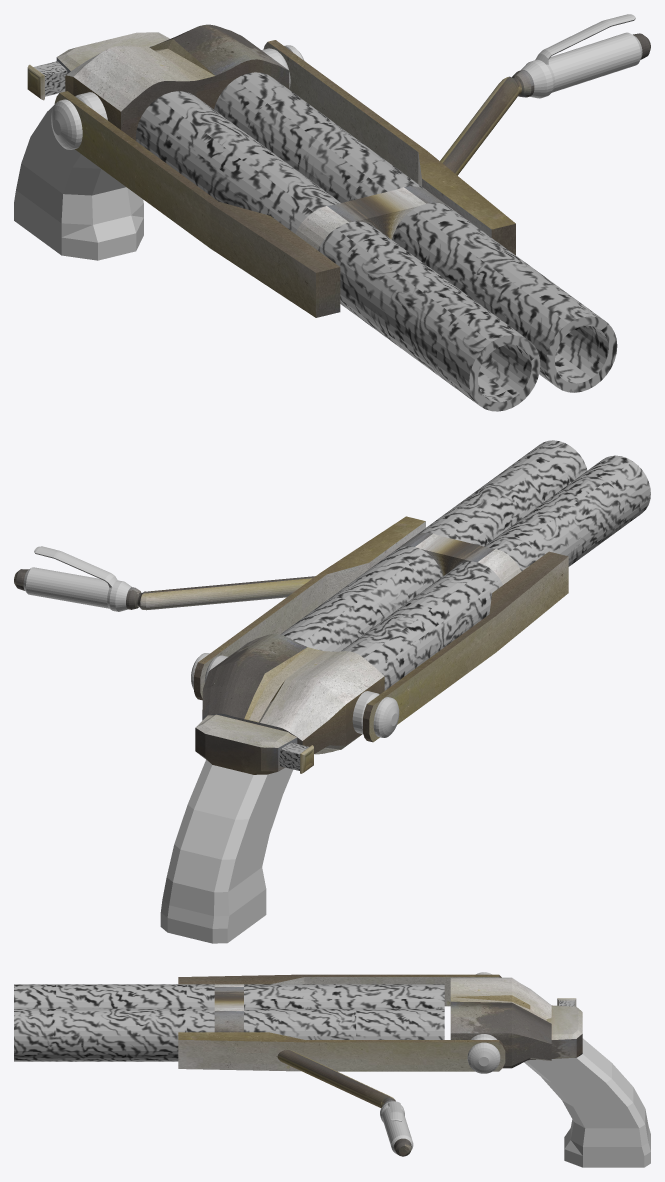
The model's file is DamascusBlue.fbx.
The picture shows the model from 3 angles, top to bottom: view 1: azimuth 30°, elevation 25°; view 2: azimuth 150°, elevation 25°; view 3: azimuth 270°, elevation 25°; orthographic projection. The views are drawn at different scales.
Visible parts, largest first — view 1: Barrels, Grip, Clutch, Flag; view 2: Grip, Barrels, Clutch, Flag; view 3: Grip, Barrels, Clutch.
Boxes of the visible parts, <box> form: Barrels: <box>136,72,617,411</box>; Grip: <box>14,24,515,317</box>; Clutch: <box>440,14,650,175</box>; Flag: <box>27,61,67,100</box>; Grip: <box>160,516,568,943</box>; Barrels: <box>280,440,650,690</box>; Clutch: <box>14,546,315,611</box>; Flag: <box>279,742,313,773</box>; Grip: <box>178,972,650,1167</box>; Barrels: <box>14,984,444,1061</box>; Clutch: <box>277,1050,413,1156</box>.
Size of the model in its own units: 1283 by 579 by 2076.
